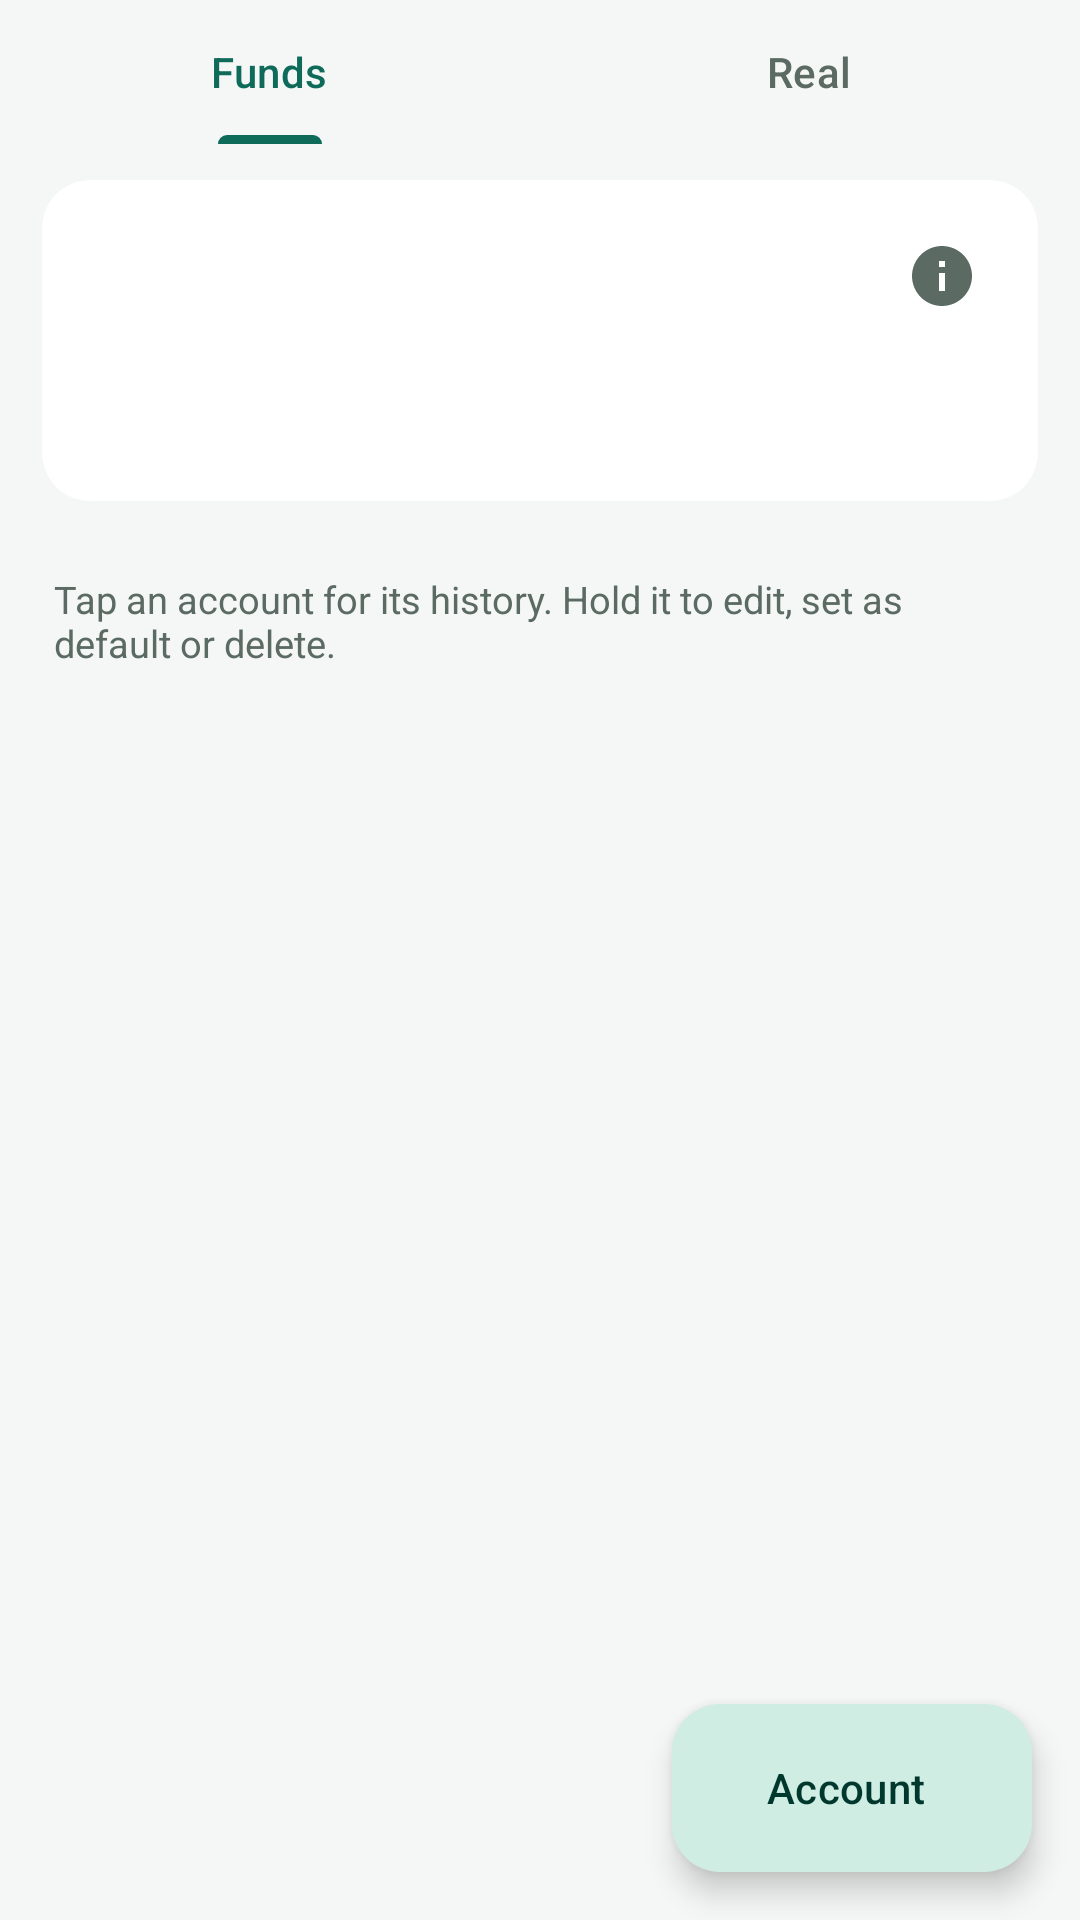

Where to tap for icons on this 1080×1920 app screen, as point (x, y):
How this is calculated: point (942, 276)
